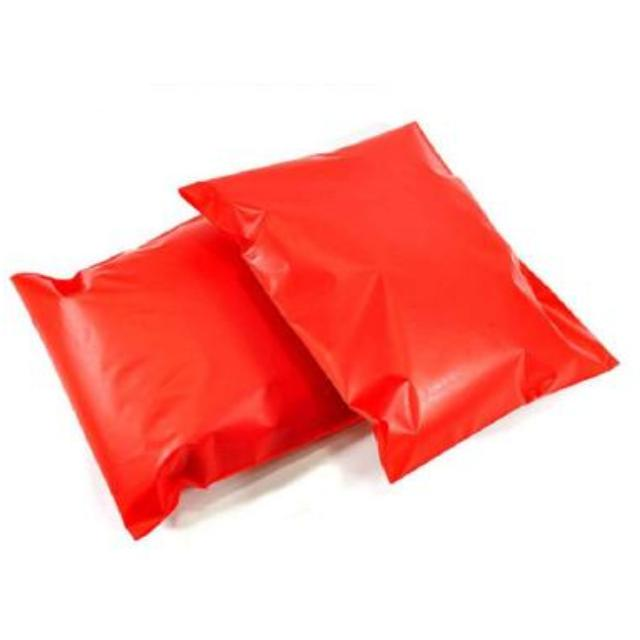mailer: (174, 118, 624, 490), (5, 208, 387, 546)
